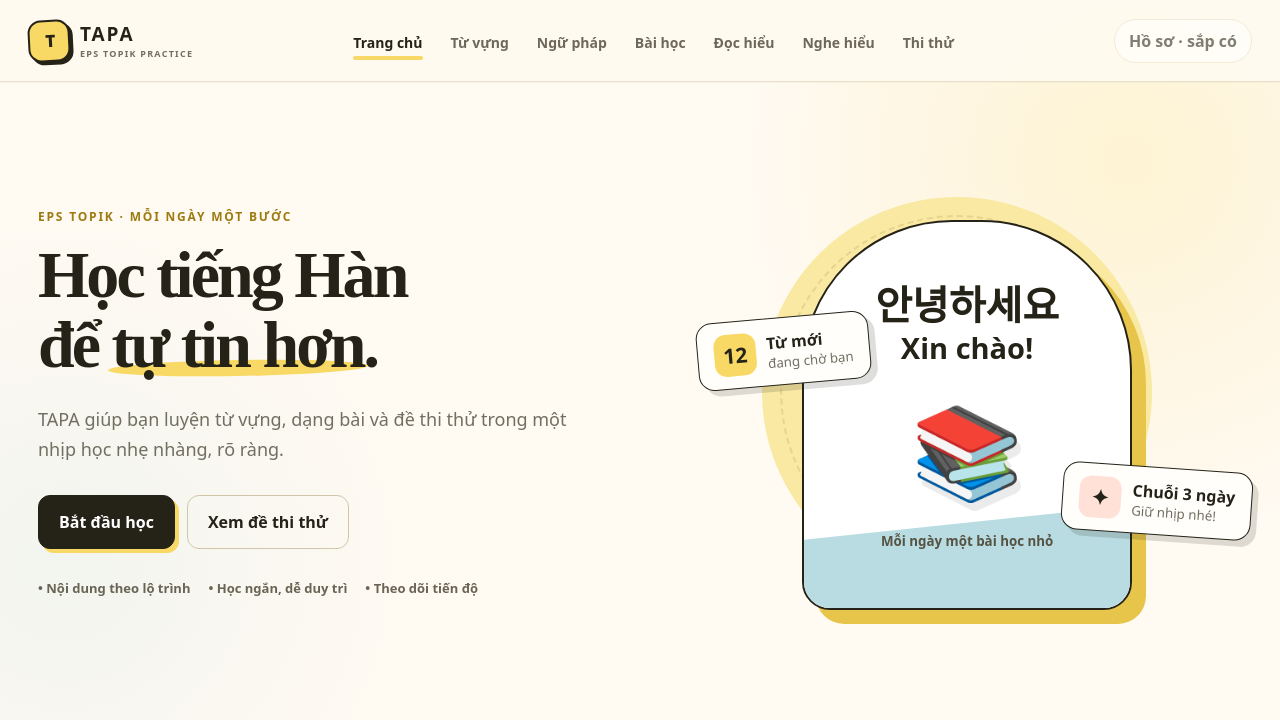
it: TapaApp › starts an exam, advances after an answer, and submits its score
Click the button "Thi thử": {"x": 928, "y": 40} x1=891 y1=2 x2=966 y2=78
(page scrolled)
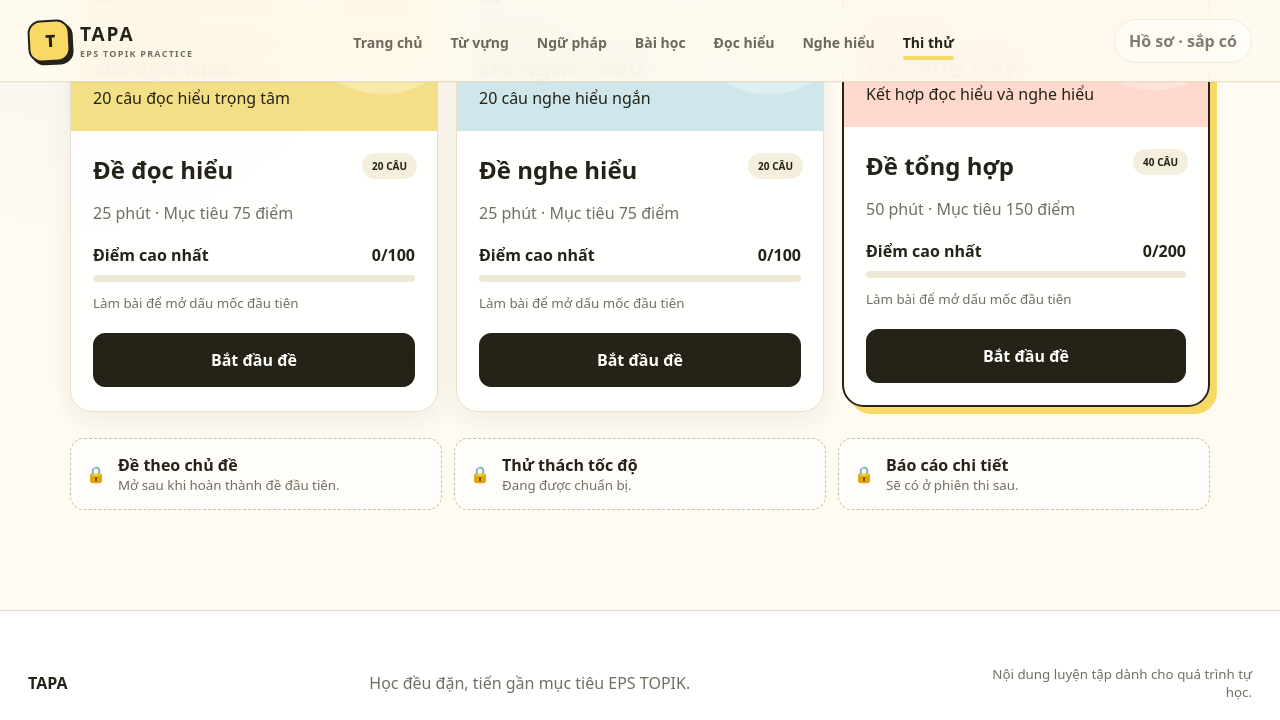
Click the button "Bắt đầu đề" below "20 câu đọc hiểu trọng tâm": {"x": 254, "y": 360} x1=93 y1=333 x2=415 y2=387
(page scrolled)
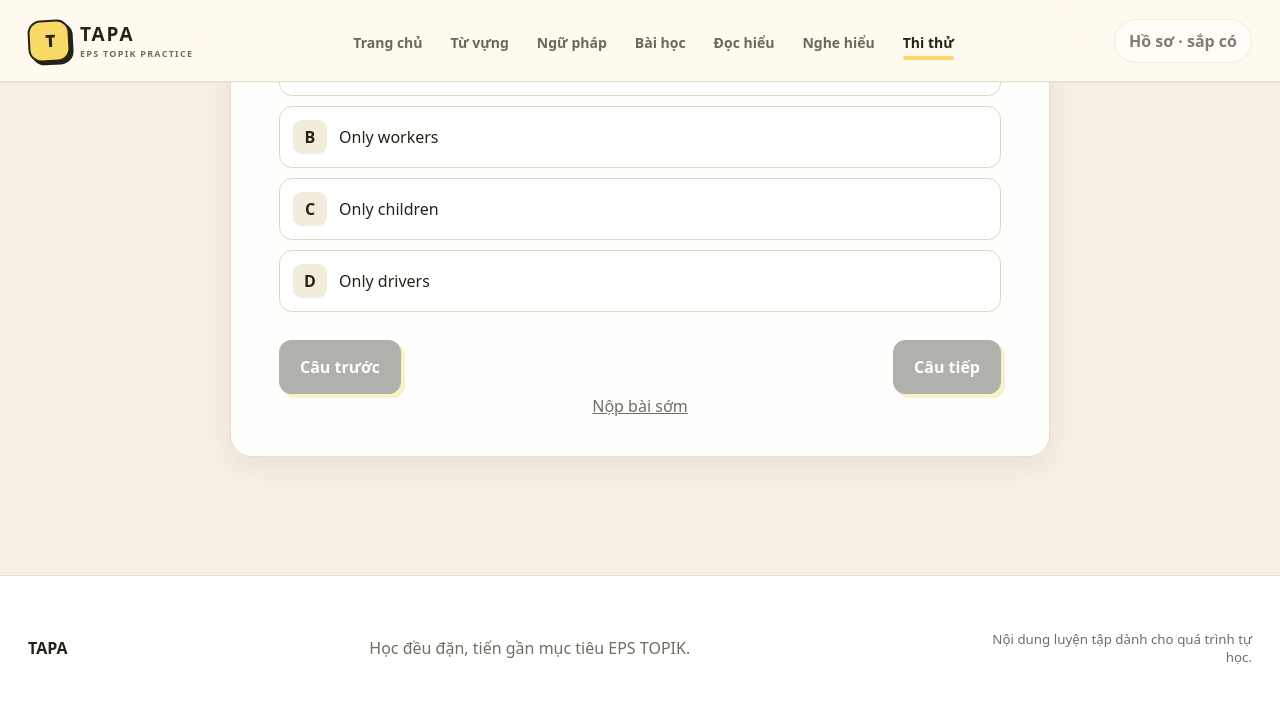
Click the button "B Only workers": {"x": 310, "y": 137} x1=279 y1=106 x2=1001 y2=168
(page scrolled)
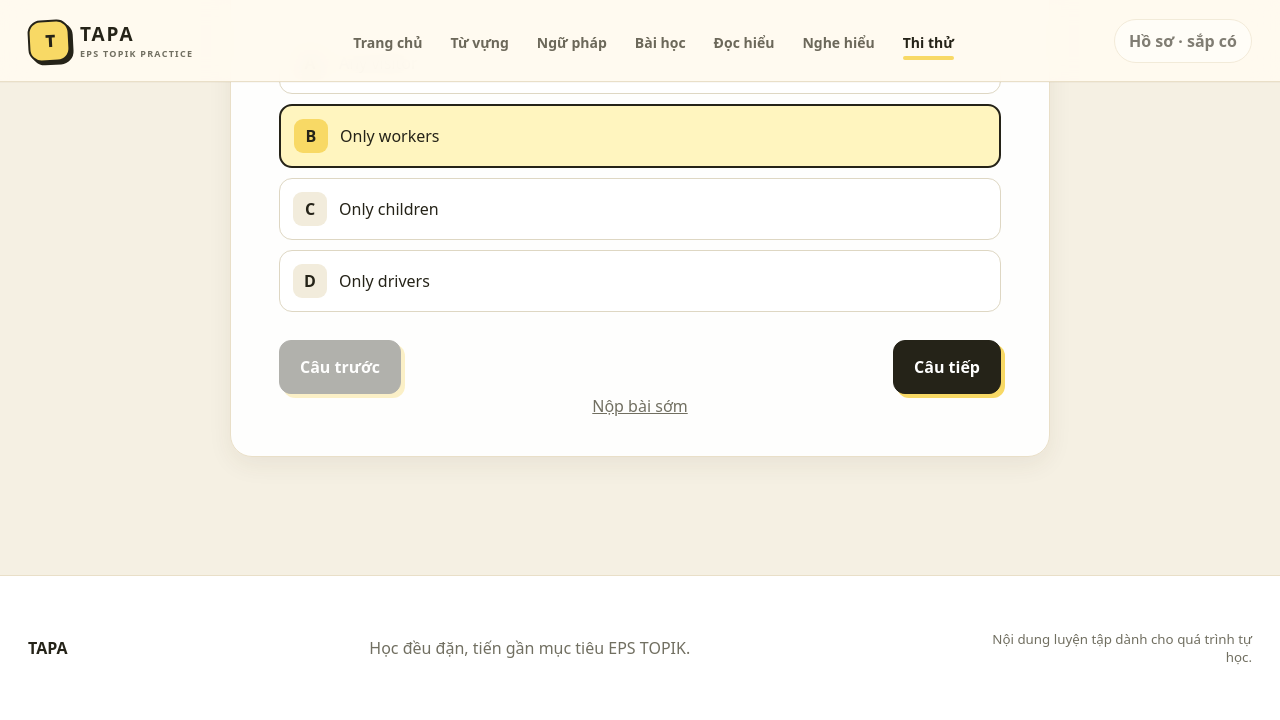
Click the button "Câu tiếp": {"x": 947, "y": 367} x1=893 y1=340 x2=1001 y2=394
(page scrolled)
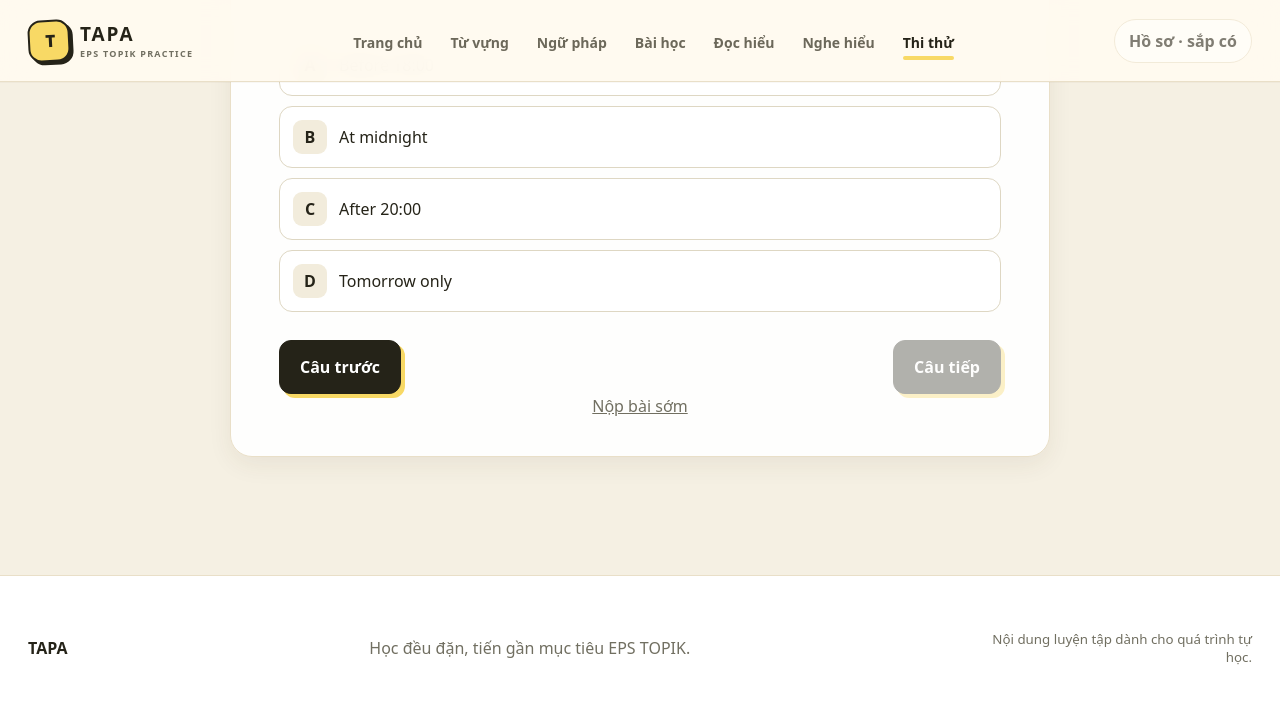
Click the button "Nộp bài sớm": {"x": 640, "y": 406} x1=586 y1=394 x2=694 y2=418
(page scrolled)
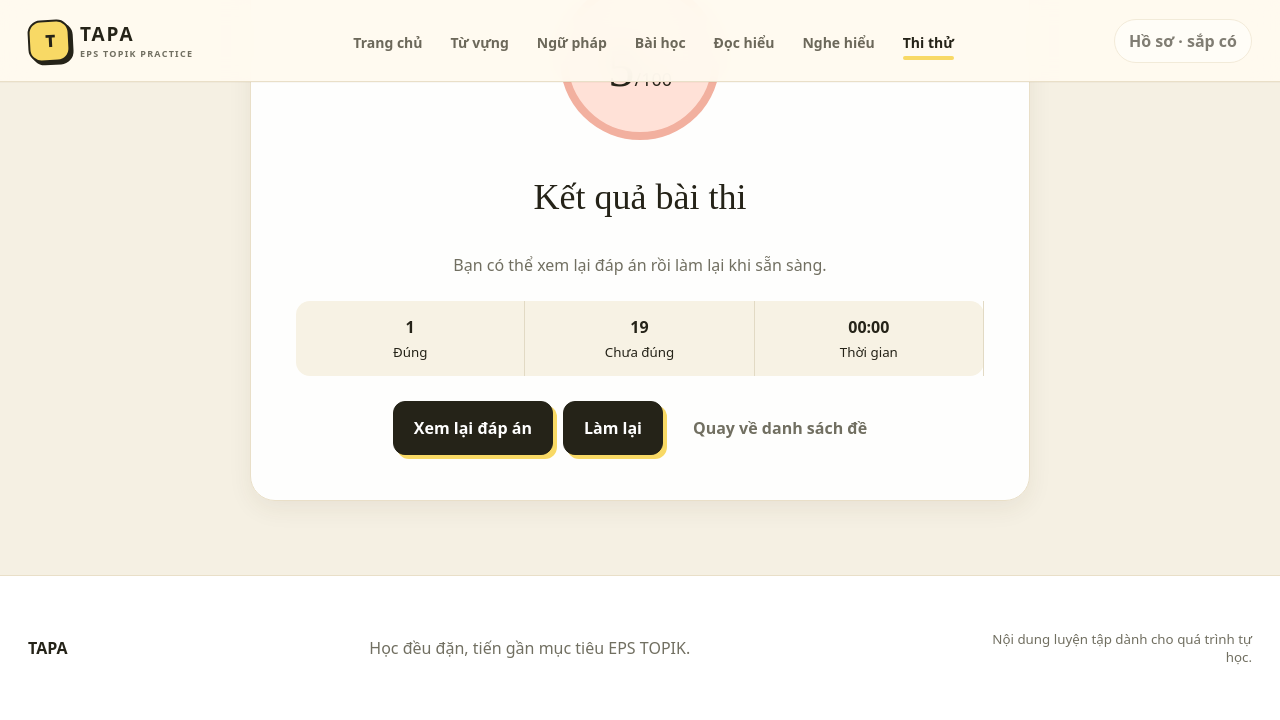
Expected: the text "5" is shown, x1=608 y1=38 x2=634 y2=98
Result: the heading "Kết quả bài thi" is shown at x1=534 y1=177 x2=746 y2=217
